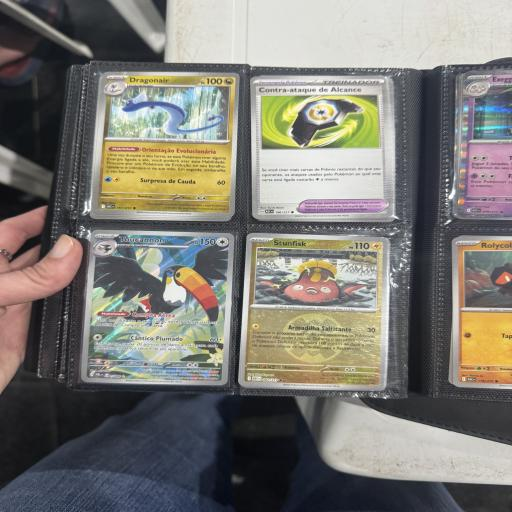card: (237, 232, 390, 390), (81, 229, 234, 385), (89, 69, 240, 217), (250, 75, 394, 220)
